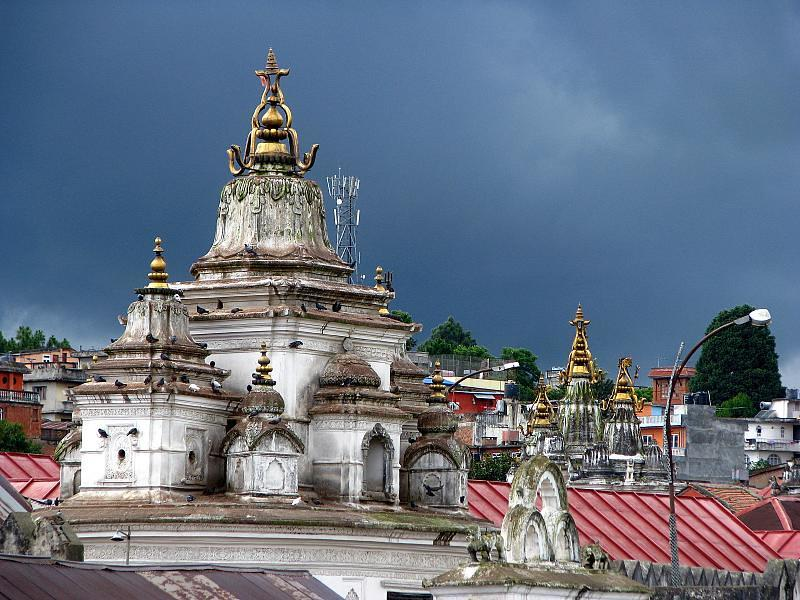temple: (52, 45, 475, 524)
